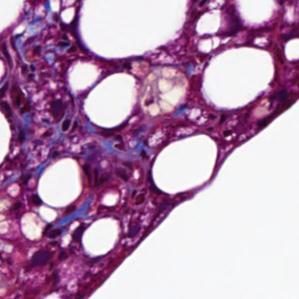inflammation: (39, 92, 78, 135), (41, 219, 84, 256)
